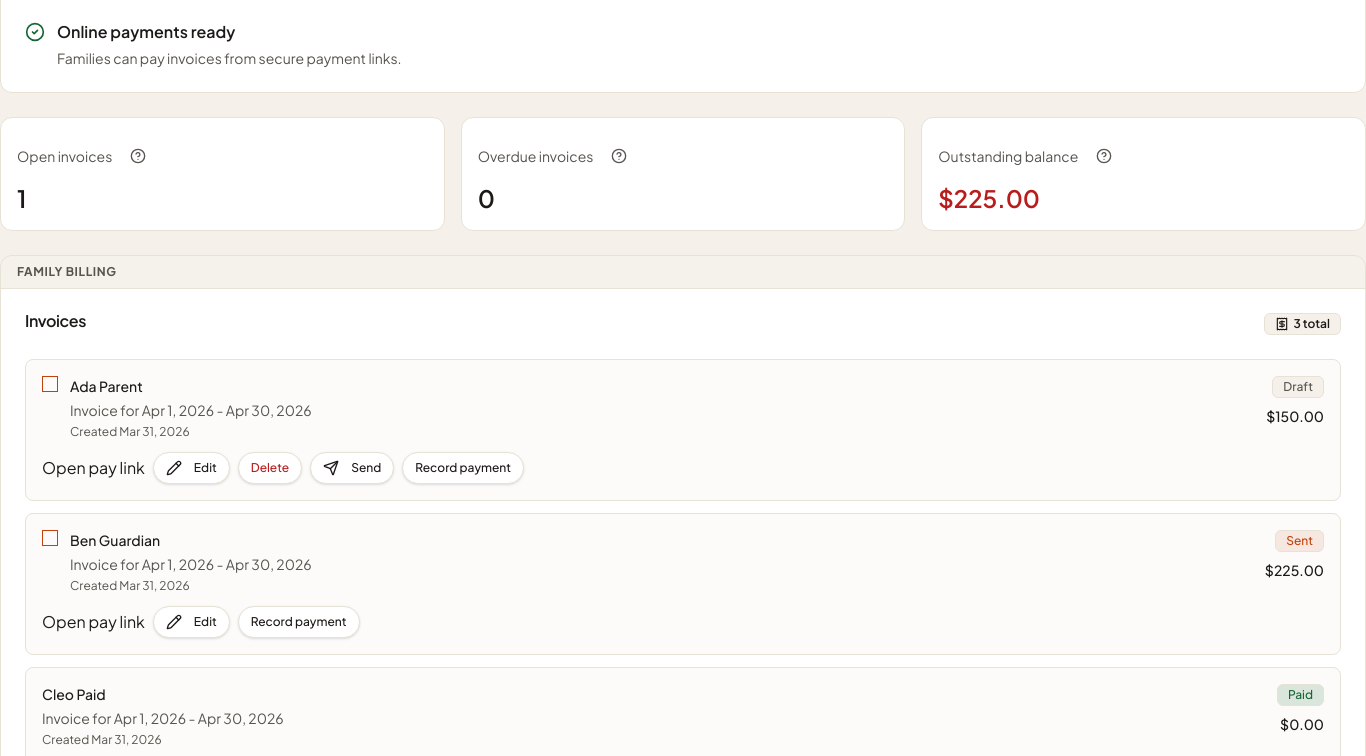
Scenario: BillingPage - bulk invoice actions › selects eligible invoices and shows a bulk action bar
(page scrolled)
Expected: the checkbox named "Select invoice for Ben Guardian" is shown, [42,530,58,546]
Click the checkbox named "Select invoice for Ada Parent". click: (50, 384)
box: [42,376,58,392]
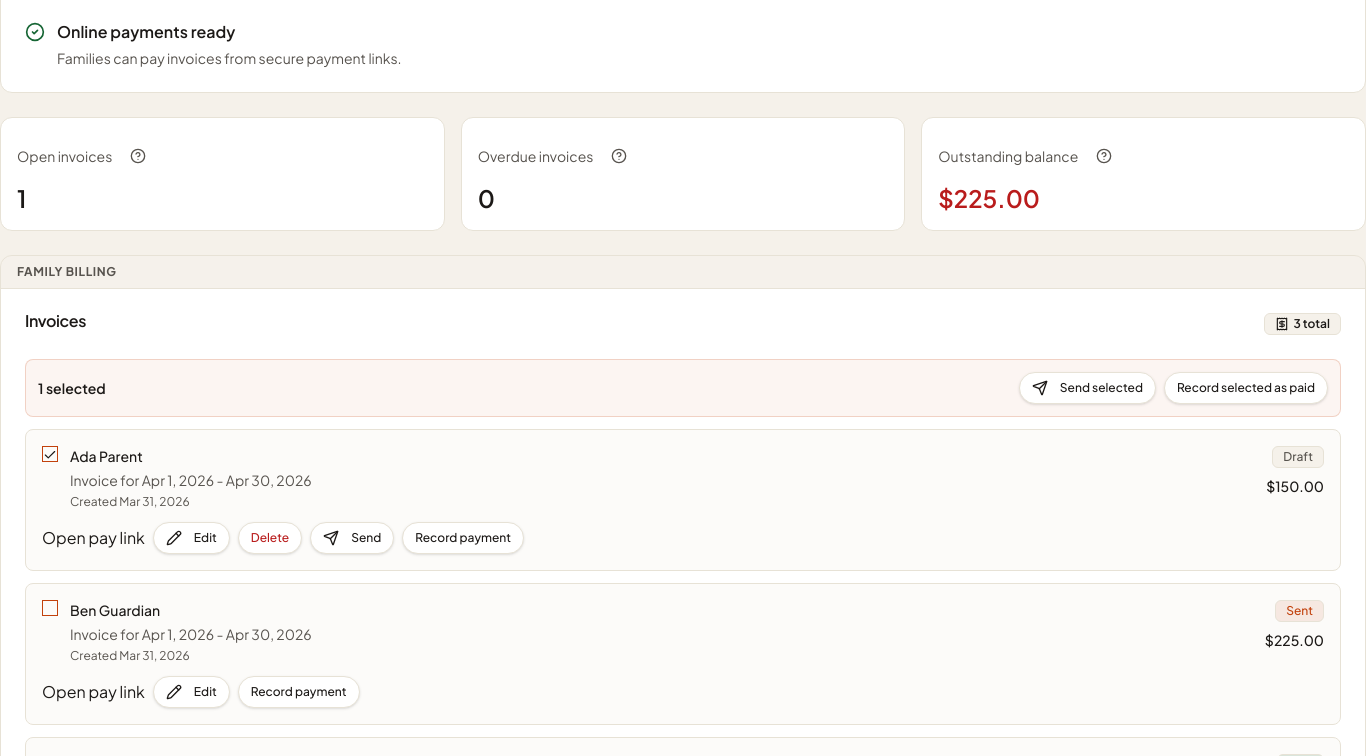
Expected: the text "1 selected" is shown, [38,378,106,398]
Expected: the button "Send selected" is shown, [1019,372,1156,404]
Expected: the button "Record selected as paid" is shown, [1164,372,1328,404]
